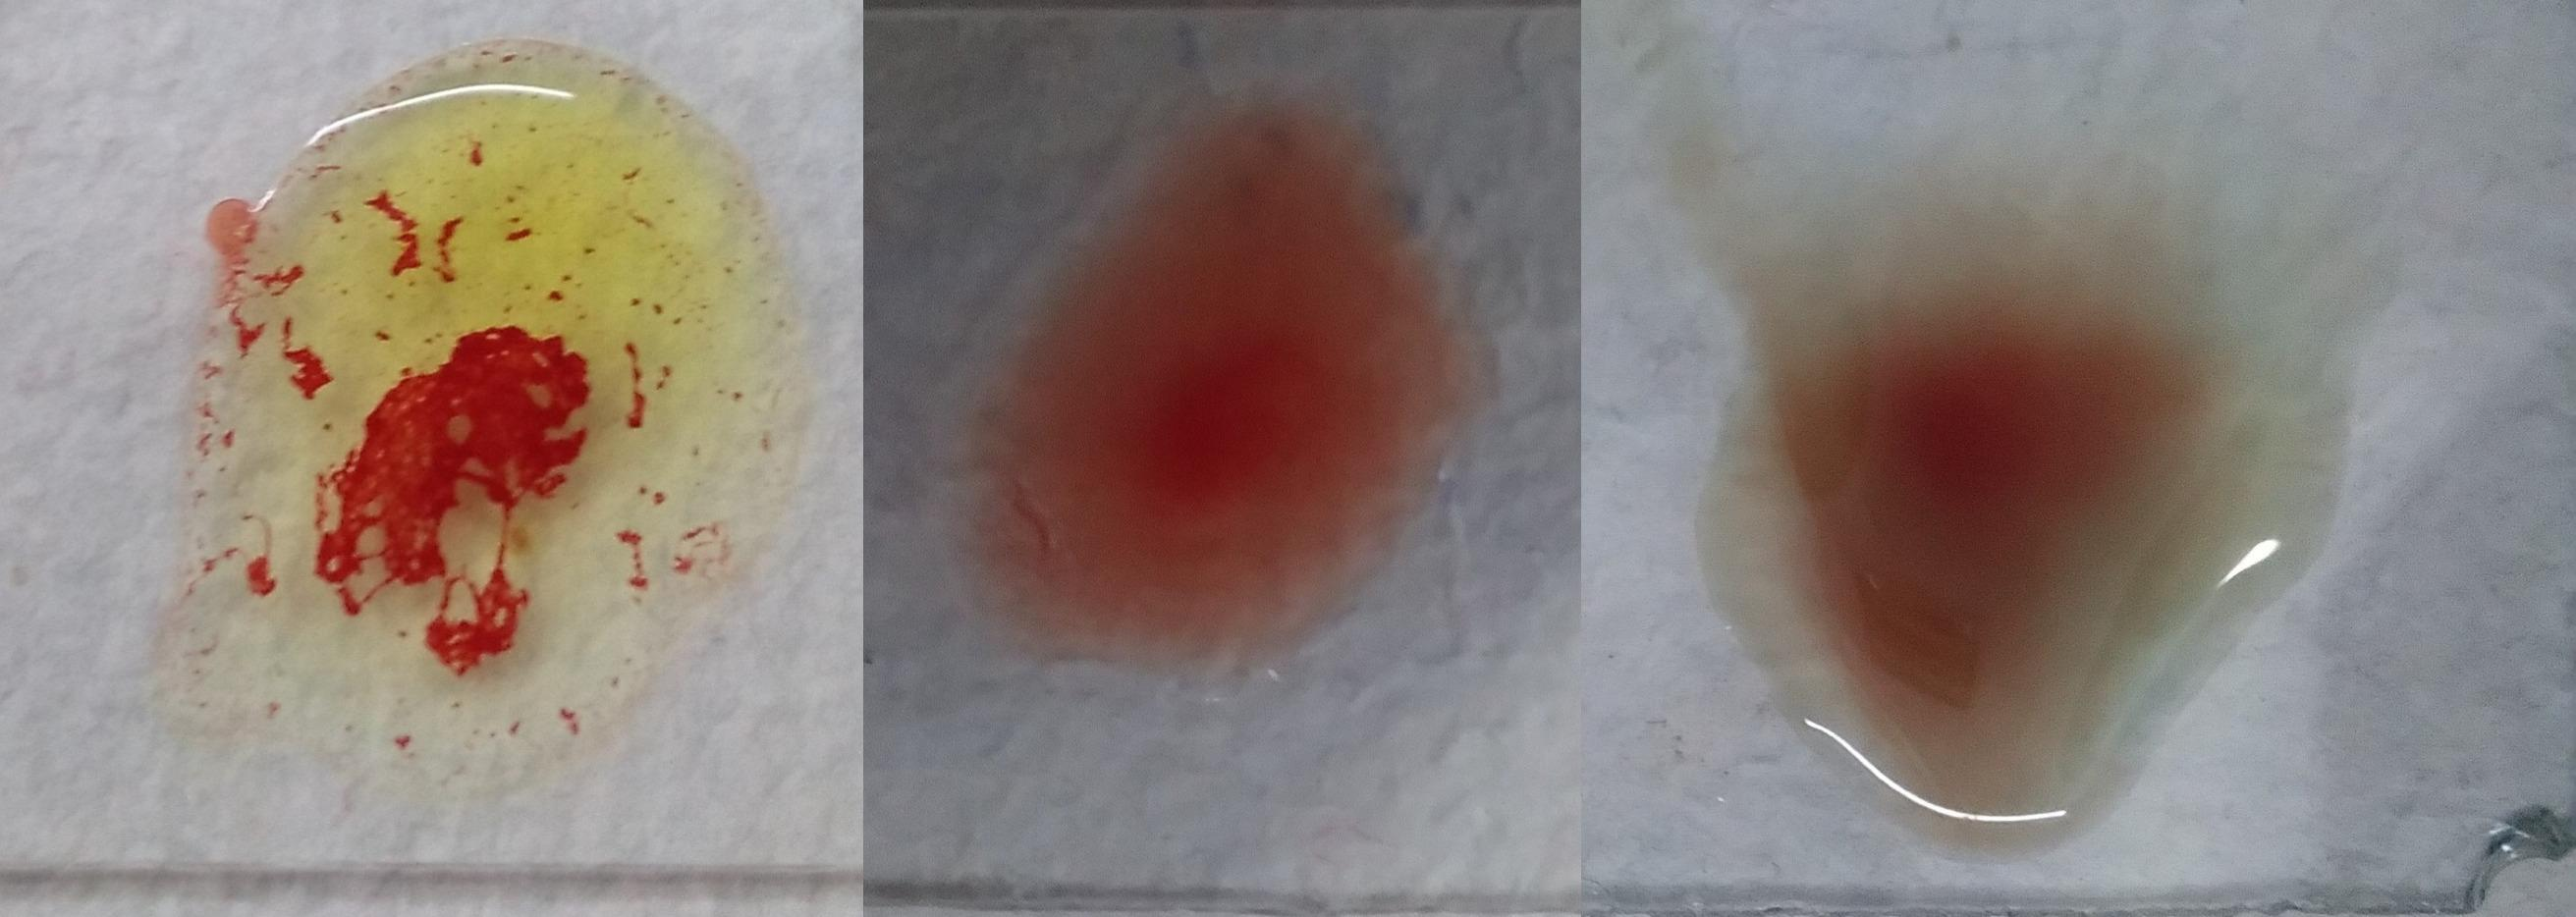B: (197, 39, 805, 751)
